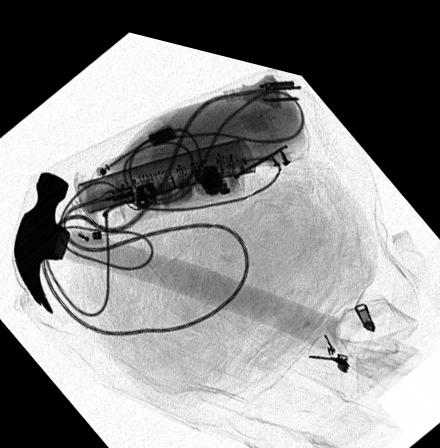Hammer: (13, 168, 341, 331)
